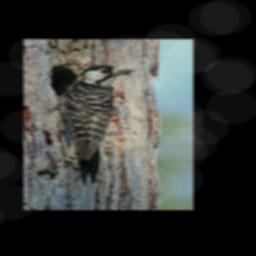Woodpecker: (45, 64, 136, 187)
